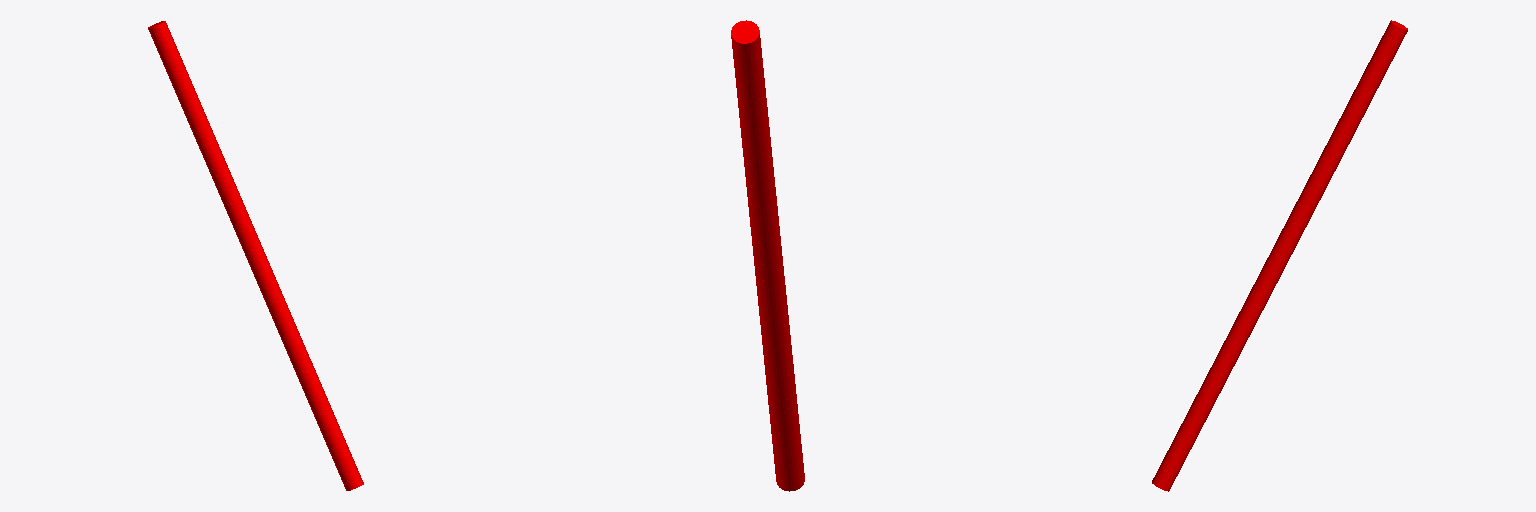
URDF robot description (tree_20.urdf):
<?xml version='1.0' encoding='utf-8'?>
<robot name="tree_20.urdf">
  <link name="branch_0">
    <inertial>
      <origin xyz="0.0 0.0 0.0" rpy="0.0 -0.0 0.0" />
      <mass value="1.0" />
      <inertia ixx="1.0" ixy="0.0" ixz="0.0" iyy="1.0" iyz="0.0" izz="1.0" />
    </inertial>
    <visual name="branch_0_visual">
      <geometry>
        <cylinder radius="0.06293721026315051" length="3.337894987637521" />
      </geometry>
      <material name="semantic_material" />
      <origin xyz="-0.32095935814802473 0.7531134288818532 1.4543696197249678" rpy="-2.7755575615628914e-17 0.5126878199364424 1.9736631850326074" />
    </visual>
    <collision name="branch_0_collision">
      <geometry>
        <cylinder radius="0.06293721026315051" length="3.337894987637521" />
      </geometry>
      <origin xyz="-0.32095935814802473 0.7531134288818532 1.4543696197249678" rpy="-2.7755575615628914e-17 0.5126878199364424 1.9736631850326074" />
    </collision>
  </link>
  <material name="semantic_material">
    <color rgba="1. 0. 0. 1." />
  </material>
</robot>

--- Facts derived from the render (not from the file) ---
The picture shows the robot from 3 angles, left to right: view 1: azimuth 30°, elevation 25°; view 2: azimuth 150°, elevation 25°; view 3: azimuth 270°, elevation 25°; orthographic projection.
Model tree_20.urdf with 1 links and 0 joints (none), rooted at branch_0, posed all joints at 0.
Visible links, largest first — view 1: branch_0; view 2: branch_0; view 3: branch_0.
Link boxes in pixels (box(x1,y1,x2,y2)): branch_0: box(148, 21, 363, 490); branch_0: box(731, 20, 804, 491); branch_0: box(1152, 20, 1407, 491).
Size in the robot's own frame: 0.7654 by 1.62 by 2.97 metres.
Geometry: primitives only (box / cylinder / sphere), no mesh files.